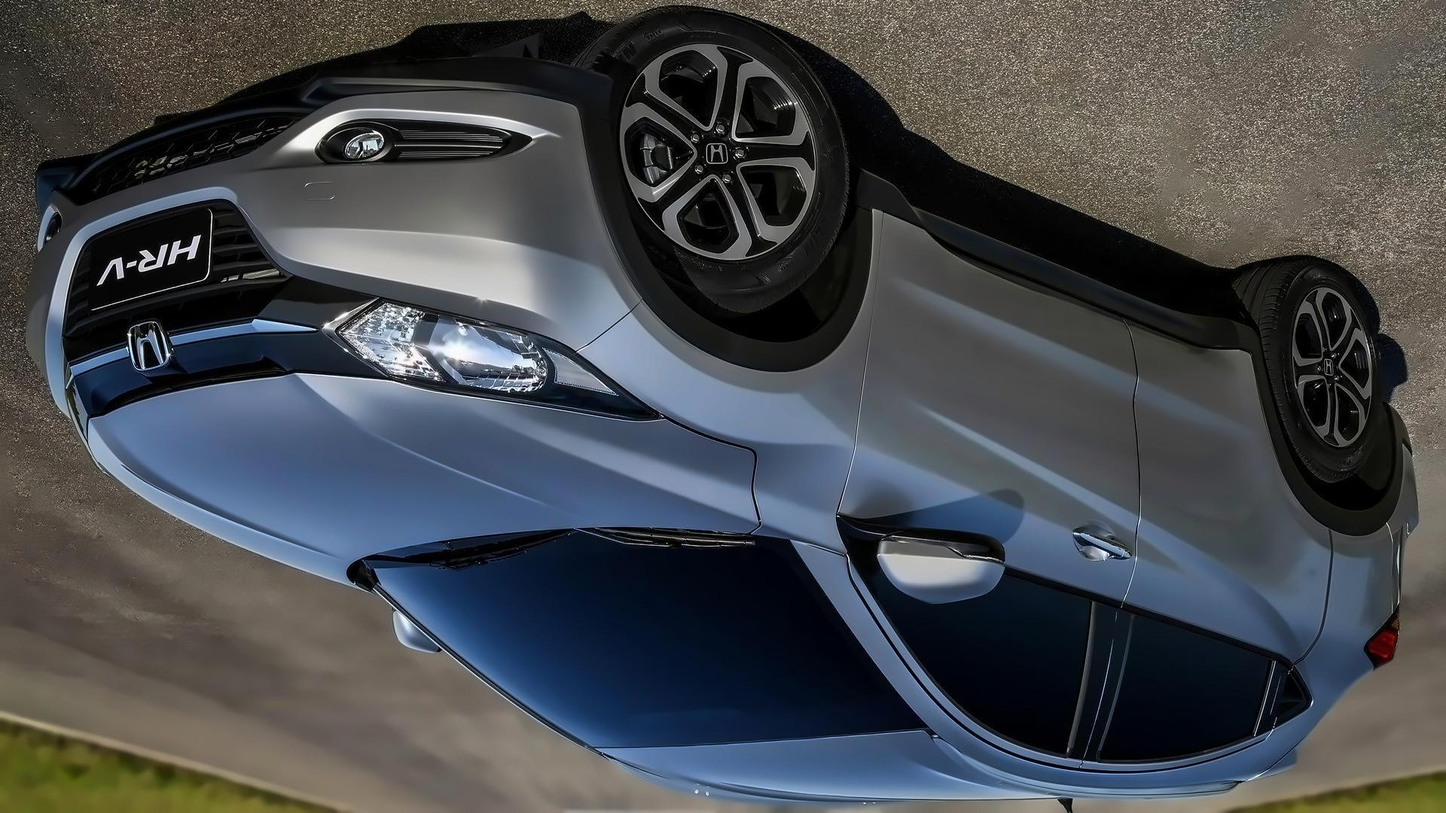Car hood: (84, 372, 759, 608)
Driver-s door - -F-R-: (820, 142, 1163, 813)
Fender - -F-R-: (573, 185, 895, 556)
Fender - -R-R-: (1278, 445, 1420, 688)
Front bumper: (19, 57, 655, 372)
Headlight - -R-: (324, 297, 663, 420)
Passenger-s door - -R-R-: (1041, 172, 1333, 813)
Rear light - -R-: (1362, 595, 1407, 677)
Side bumper - -R-: (858, 163, 1273, 417)
Side mirror - -R-: (845, 513, 1006, 607)
